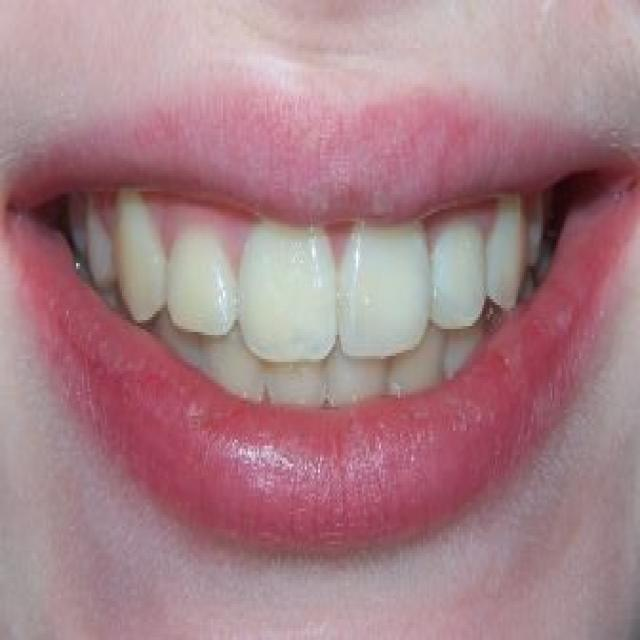tooth: (230, 218, 336, 359), (336, 227, 432, 359), (428, 224, 494, 335), (168, 227, 232, 335), (114, 191, 164, 326), (251, 353, 326, 413), (486, 203, 522, 302), (213, 344, 265, 407), (392, 338, 442, 392), (153, 320, 210, 365), (330, 359, 390, 398), (520, 188, 552, 260), (90, 209, 120, 284), (438, 323, 484, 368), (65, 192, 99, 252)
